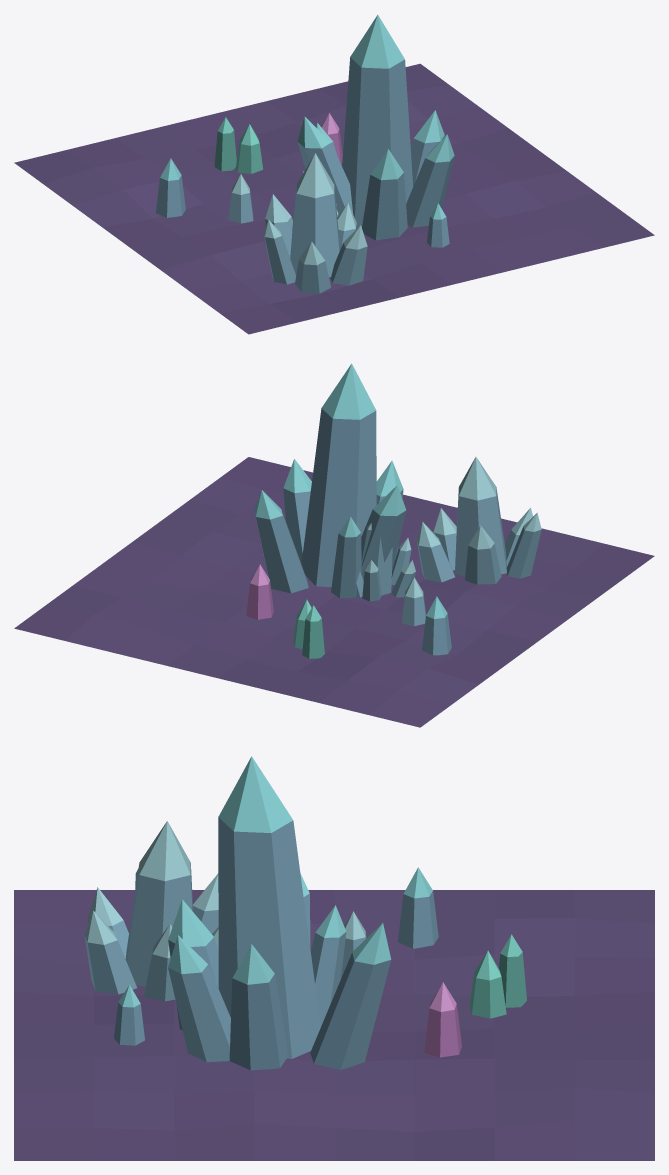
File: crystal_tile.glb
3 renders of one model, top to bottom at view 1: azimuth 30°, elevation 25°; view 2: azimuth 150°, elevation 25°; view 3: azimuth 270°, elevation 25°, orthographic. The views are drawn at different scales.
Parts seen in each view (by area): view 1: Crystal_v2Tile; view 2: Crystal_v2Tile; view 3: Crystal_v2Tile.
Part boxes in pixels (x1=…): Crystal_v2Tile: x1=14, y1=14, x2=654, y2=334; Crystal_v2Tile: x1=14, y1=363, x2=654, y2=727; Crystal_v2Tile: x1=14, y1=756, x2=654, y2=1160.
Bounding box in the file's own units: 1 × 0.4916 × 1.
